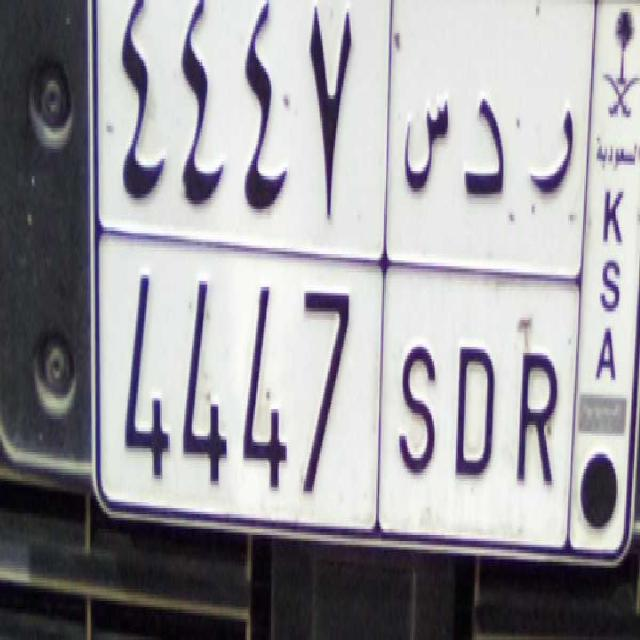license_plate: (86, 222, 570, 562)
